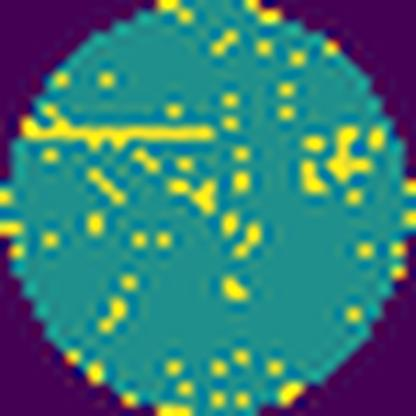Scratch: (20, 101, 218, 153)
